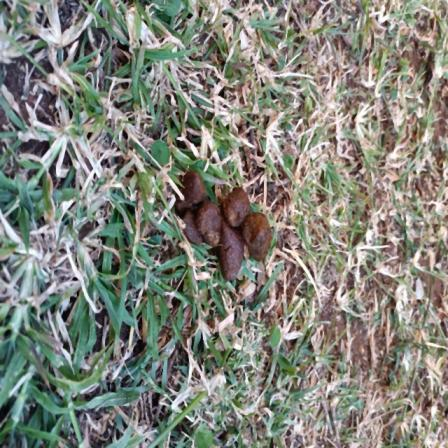dog-poop: (179, 167, 274, 271)
